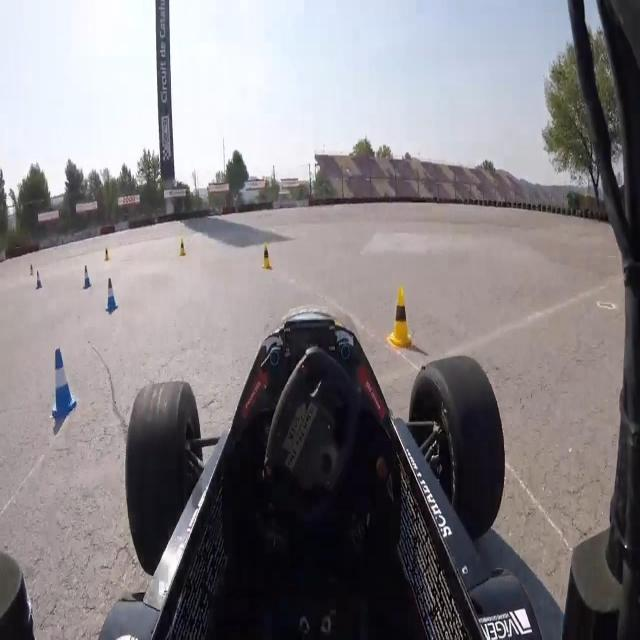blue_cone: (50, 343, 77, 420), (106, 279, 118, 314), (82, 264, 92, 290), (36, 268, 43, 290)
yellow_cone: (388, 287, 413, 349), (261, 244, 274, 270), (178, 235, 188, 257), (104, 245, 111, 262), (27, 262, 35, 276)
